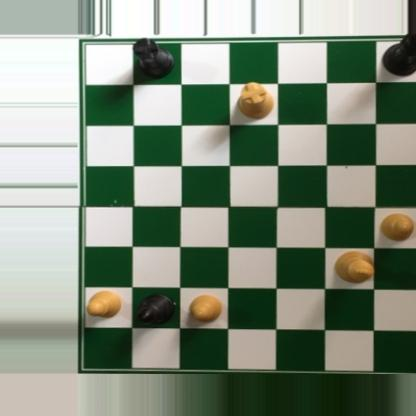black-bishop: (134, 289, 177, 326)
black-king: (382, 34, 416, 78)
black-rook: (133, 35, 176, 77)
white-king: (332, 249, 377, 284)
white-pawn: (186, 291, 221, 323), (378, 212, 413, 243), (87, 288, 124, 317)
white-rook: (235, 80, 275, 122)
